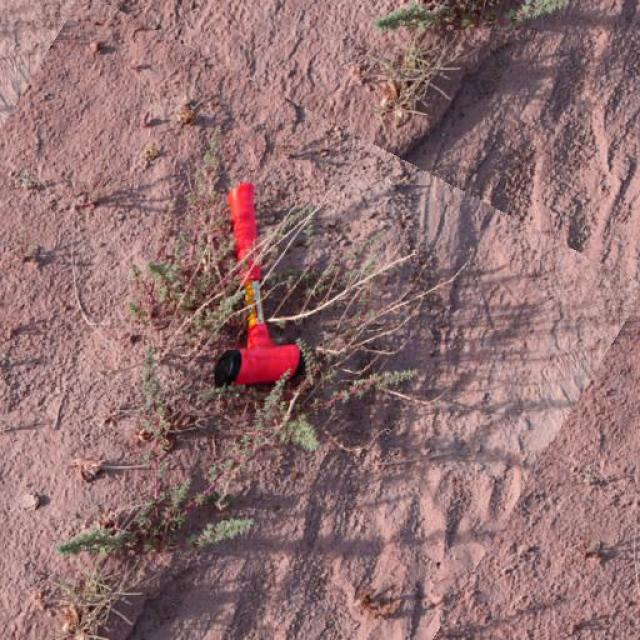mallet: (214, 180, 304, 388)
